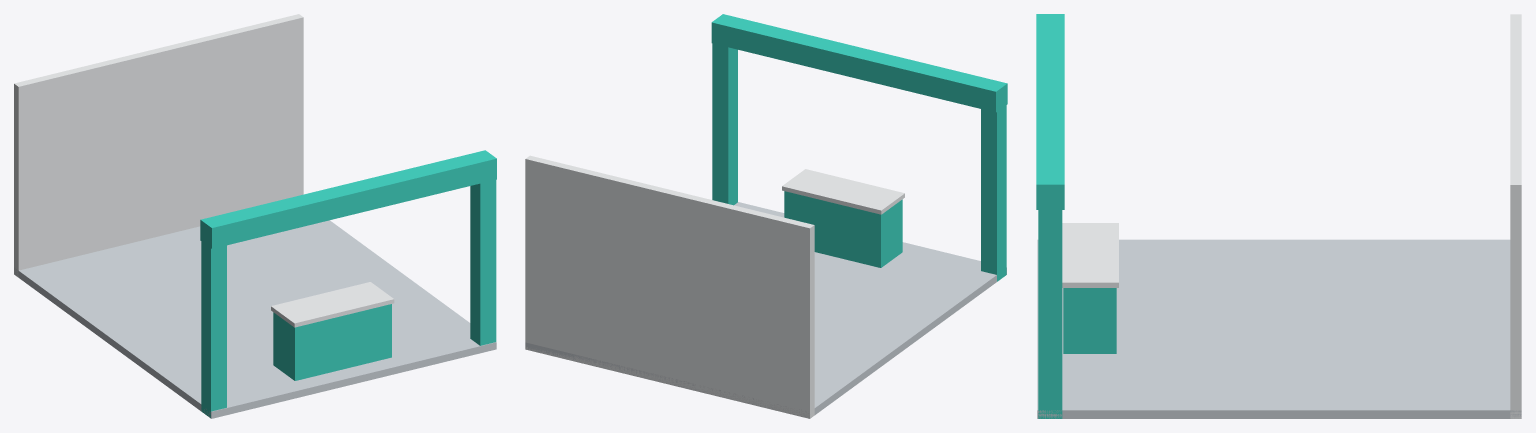
3 renders of one model, left to right at view 1: azimuth 30°, elevation 25°; view 2: azimuth 150°, elevation 25°; view 3: azimuth 270°, elevation 25°, orthographic. The views are drawn at different scales.
Parts seen in each view (by area): view 1: Exhibition Booth Concept; view 2: Exhibition Booth Concept; view 3: Exhibition Booth Concept.
Boxes of the visible parts, x1=… form: Exhibition Booth Concept: x1=14, y1=14, x2=496, y2=418; Exhibition Booth Concept: x1=525, y1=14, x2=1007, y2=418; Exhibition Booth Concept: x1=1036, y1=14, x2=1521, y2=418.
Bounding box in the file's own units: 5 × 3.2 × 6.02.
